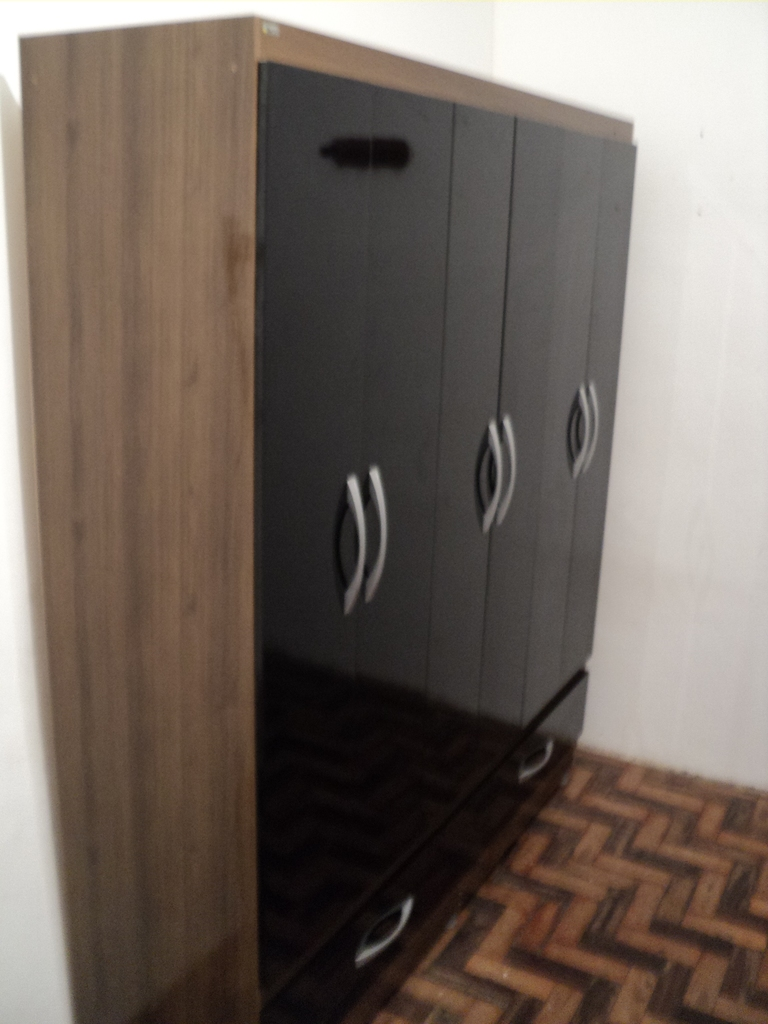cabinet door: (260, 73, 365, 856), (367, 84, 435, 828), (453, 115, 500, 715), (499, 115, 538, 717), (541, 138, 580, 667), (581, 145, 617, 619), (289, 873, 441, 964), (453, 735, 578, 814)
handle: (341, 469, 367, 629), (365, 458, 389, 607), (353, 907, 415, 961), (481, 415, 503, 529), (503, 412, 518, 525), (511, 745, 558, 781), (586, 371, 603, 462), (577, 375, 590, 479)
